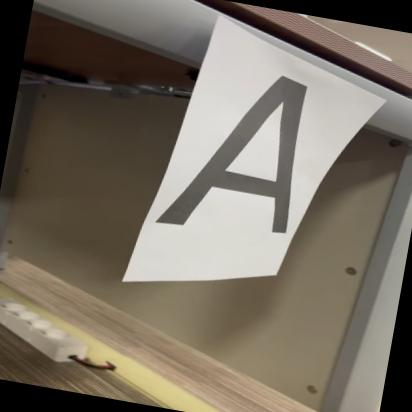seat: (147, 45, 337, 250)
